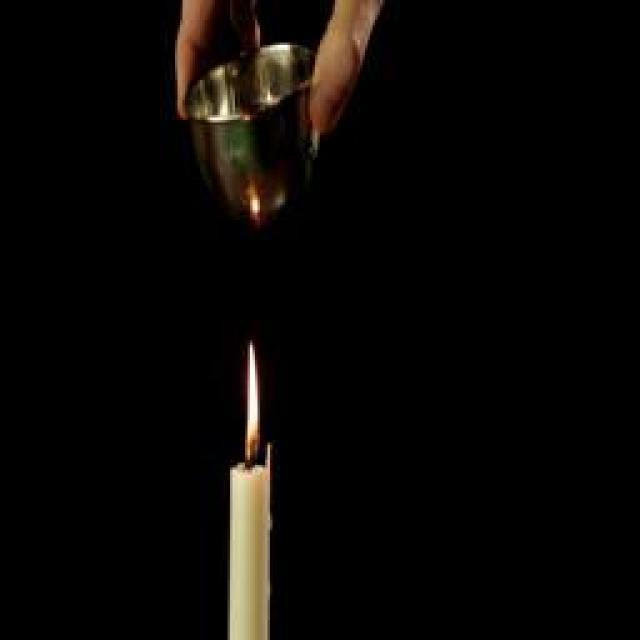Fire: (248, 345, 260, 455)
